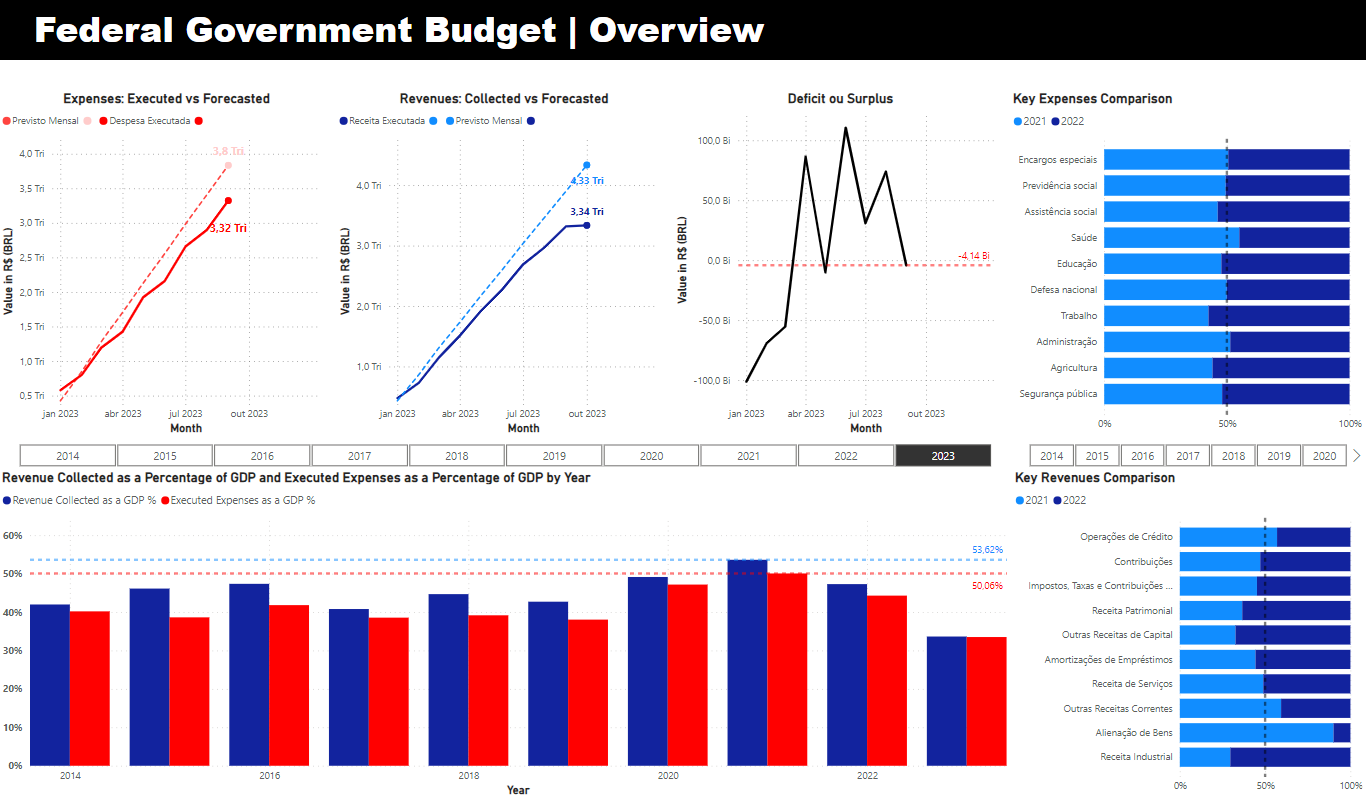

What the dashboard file says about the page in this screenshot:
{"tool":"powerbi","page":{"name":"Página 1","canvas":[1710,1000],"ordinal":0},"visuals":[{"type":"lineChart","title":"Expenses: Executed vs Forecasted","fields":{"Y":["Sum(dashboard previsto_exec_despesa.Previsto Mensal Ac.)","dashboard previsto_exec_despesa.last_previsto_exec_despesaPrevMensAc","Sum(dashboard previsto_exec_despesa.Despesa Executada Ac.)","dashboard previsto_exec_despesa.last_previsto_exec_despesaDespExecAc"],"Category":["dashboard previsto_exec_despesa.Data"]},"box":[0,112.9,421.4,435.7],"z":0},{"type":"slicer","fields":{"Values":["YearTable.ano"]},"box":[1.4,548.6,1264.3,37.1],"z":1000},{"type":"lineChart","title":"Revenues: Collected vs Forecasted","fields":{"Y":["Sum(dashboard previsto_exec_receita.Receita Executada Ac.)","dashboard previsto_exec_receita.last_previsto_exec_receitaPrevMensAc","Sum(dashboard previsto_exec_receita.Previsto Mensal Ac.)","dashboard previsto_exec_receita.last_previsto_exec_receitaReceExecAc"],"Category":["dashboard previsto_exec_receita.Data"]},"box":[421.4,112.9,422.9,435.7],"z":2000},{"type":"lineChart","title":"Deficit ou Surplus","fields":{"Category":["dashboard despesa_receita_exec.data"],"Y":["Sum(dashboard despesa_receita_exec.DeficitSuperavit)"]},"box":[842.9,112.9,421.4,435.7],"z":3000},{"type":"hundredPercentStackedBarChart","title":"Key Revenues Comparison","fields":{"Series":["ClonePrinc_receitas.ano"],"Y":["Sum(ClonePrinc_receitas.perc_receita_total)"],"Category":["ClonePrinc_receitas.receita"]},"box":[1265.7,585.7,444.3,414.3],"z":4000},{"type":"slicer","fields":{"Values":["YearTable3_princ.Ano"]},"box":[1264.3,548.6,445.7,37.1],"z":5000},{"type":"hundredPercentStackedBarChart","title":"Key Expenses Comparison ","fields":{"Y":["Sum(ClonePrinc_despesas.perc_despesa_total)"],"Category":["ClonePrinc_despesas.despesa"],"Series":["ClonePrinc_despesas.ano"]},"box":[1264.3,112.9,445.7,435.7],"z":6000},{"type":"clusteredColumnChart","title":"Revenue Collected as a Percentage of GDP and Executed Expenses as a Percentage of GDP by Year","fields":{"Category":["YearTable2.ano"],"Y":["Sum(dashboard receita_arrec_ac_pib.Receita Arrec. % PIB)","Sum(dashboard despesa_exec_ac_pib.Despesa Exec. % PIB)"]},"box":[0,585.7,1265.7,414.3],"z":7000},{"type":"textbox","box":[0,0,1710,75],"z":8000}]}

Visuals, with their boxes in screenshot pixels (x1, y1, x2, y2), scaled from the page's 1710x1000 canvas onto the 1366x800 screenshot:
"Expenses: Executed vs Forecasted" lineChart: (0,90,337,439)
slicer - YearTable.ano: (1,439,1011,469)
"Revenues: Collected vs Forecasted" lineChart: (337,90,674,439)
"Deficit ou Surplus" lineChart: (673,90,1010,439)
"Key Revenues Comparison" hundredPercentStackedBarChart: (1011,469,1365,799)
slicer - YearTable3_princ.Ano: (1010,439,1365,469)
"Key Expenses Comparison " hundredPercentStackedBarChart: (1010,90,1365,439)
"Revenue Collected as a Percentage of GDP and Executed Expenses as a Percentage of GDP by Year" clusteredColumnChart: (0,469,1011,799)
textbox: (0,0,1365,60)
